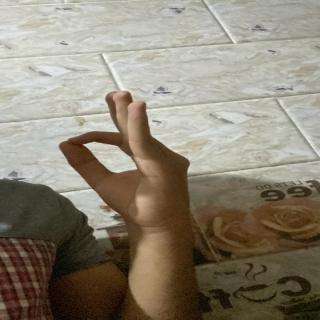Space: (43, 86, 193, 218)
